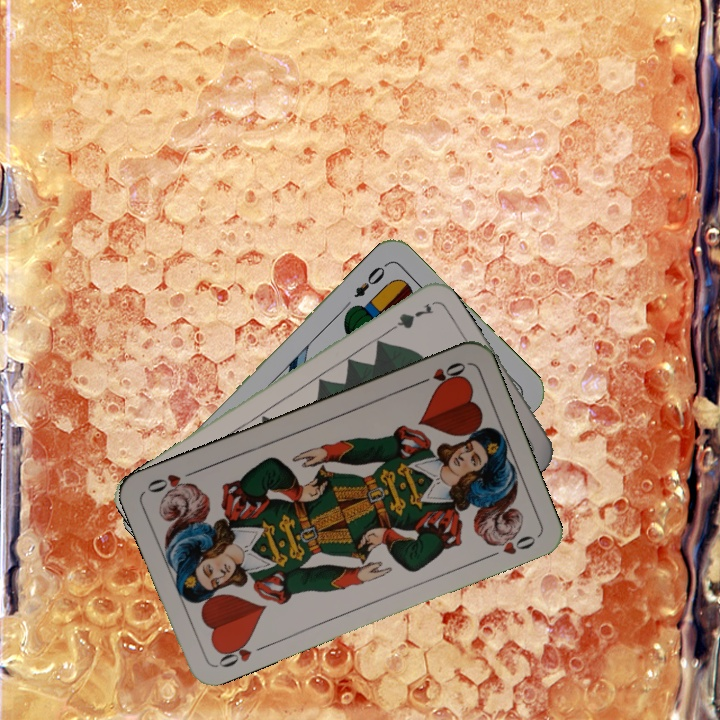EO: (350, 259, 390, 301)
G7: (380, 299, 433, 338)
HO: (412, 358, 469, 389), (212, 635, 254, 670)
